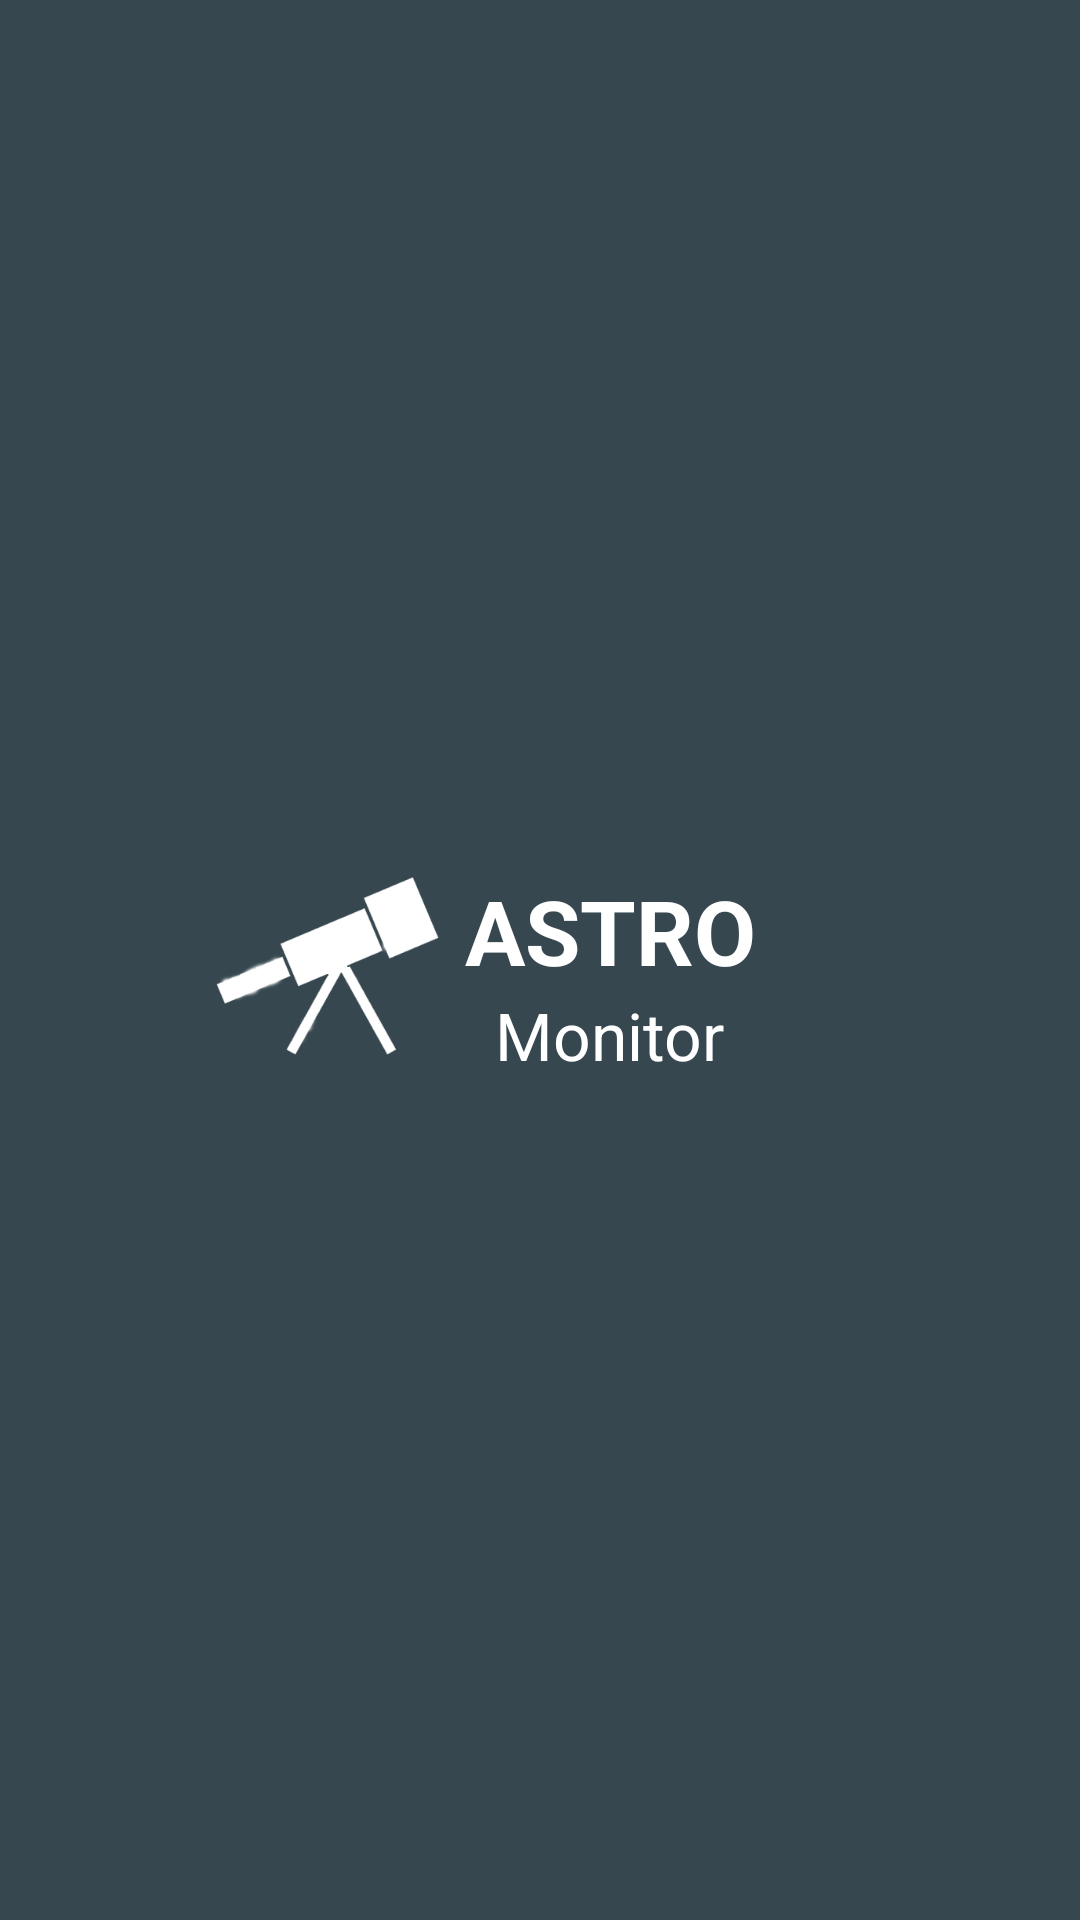

Where icons sit on this 1080w x 1920h app screen, as bbox=(x1, y1, x2, y2):
appicon: bbox=(217, 877, 439, 1055)
